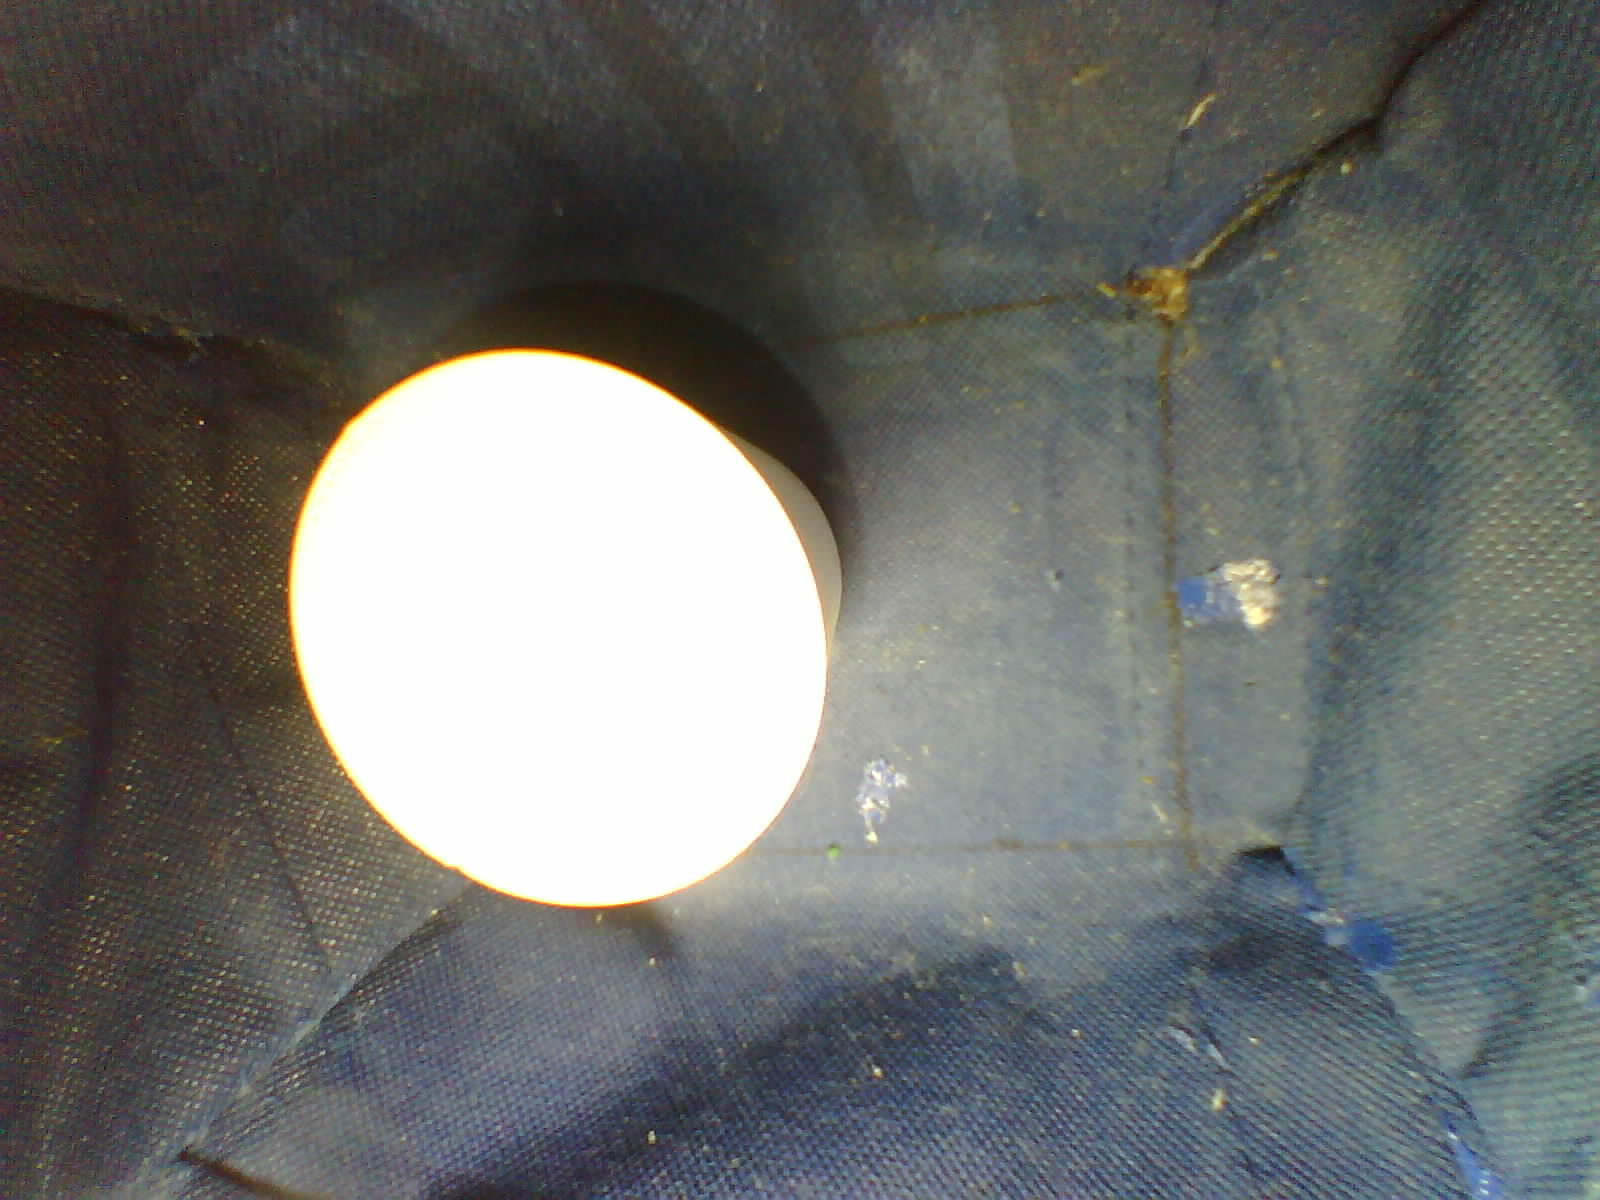cylinder-hard: (267, 326, 850, 930)
